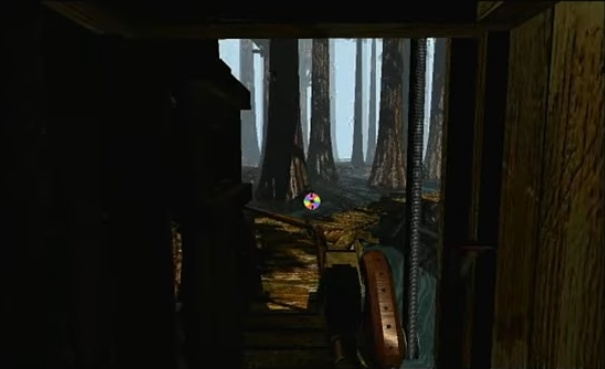Waiting: (300, 190, 323, 212)
